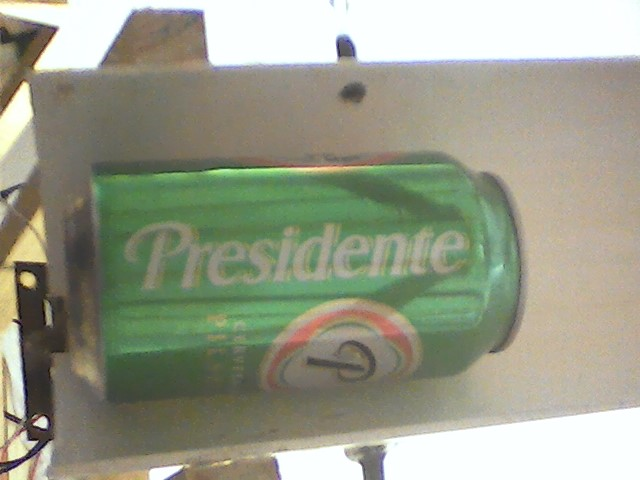lata: (58, 148, 545, 410)
